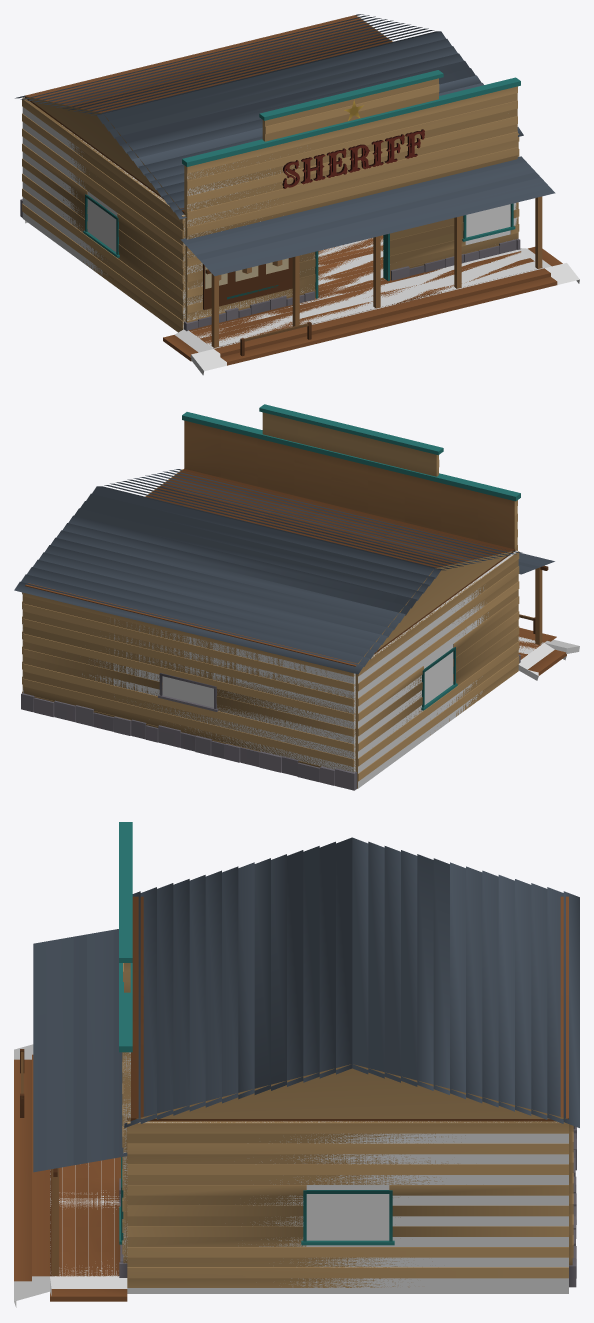
File: sheriff.glb
3 views of the same model, one above another, from view 1: azimuth 30°, elevation 25°; view 2: azimuth 150°, elevation 25°; view 3: azimuth 270°, elevation 25° (orthographic). The views are drawn at different scales.
Parts seen in each view (by area): view 1: sheriff, COL_7, COL_6, COL_3, COL_0, COL_1, COL_8; view 2: sheriff, COL_5, COL_6, COL_9; view 3: sheriff, COL_4, COL_0, COL_7, COL_10, COL_8.
Boxes of the visible parts, left/top/right/bottom form: sheriff: left=15, top=14, right=562, bottom=365; COL_7: left=191, top=250, right=543, bottom=348; COL_6: left=22, top=107, right=185, bottom=329; COL_3: left=465, top=203, right=517, bottom=244; COL_0: left=25, top=220, right=384, bottom=295; COL_1: left=187, top=156, right=314, bottom=320; COL_8: left=190, top=263, right=579, bottom=375; sheriff: left=14, top=404, right=566, bottom=790; COL_5: left=82, top=619, right=355, bottom=772; COL_6: left=358, top=550, right=518, bottom=788; COL_9: left=518, top=643, right=566, bottom=680; sheriff: left=14, top=822, right=579, bottom=1301; COL_4: left=127, top=1121, right=568, bottom=1287; COL_0: left=127, top=1288, right=568, bottom=1293; COL_7: left=50, top=1158, right=119, bottom=1276; COL_10: left=50, top=1276, right=127, bottom=1288; COL_8: left=14, top=1044, right=51, bottom=1307.
Size of the model in its own units: 21.6 by 11.4 by 20.5.
